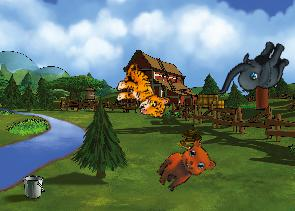bear: (151, 133, 220, 203)
elephant: (216, 28, 294, 113)
tiger: (110, 61, 176, 121)
